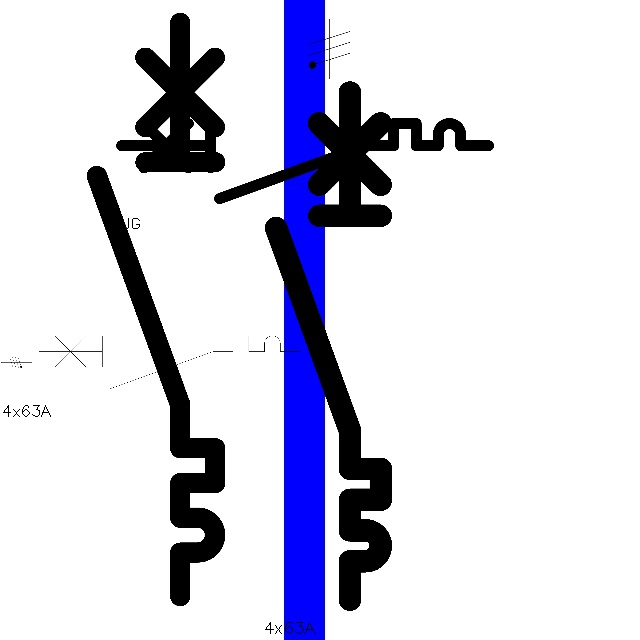interruptor_termomagnetico: (82, 8, 230, 611), (263, 79, 394, 613), (112, 114, 498, 208), (32, 329, 307, 396)
